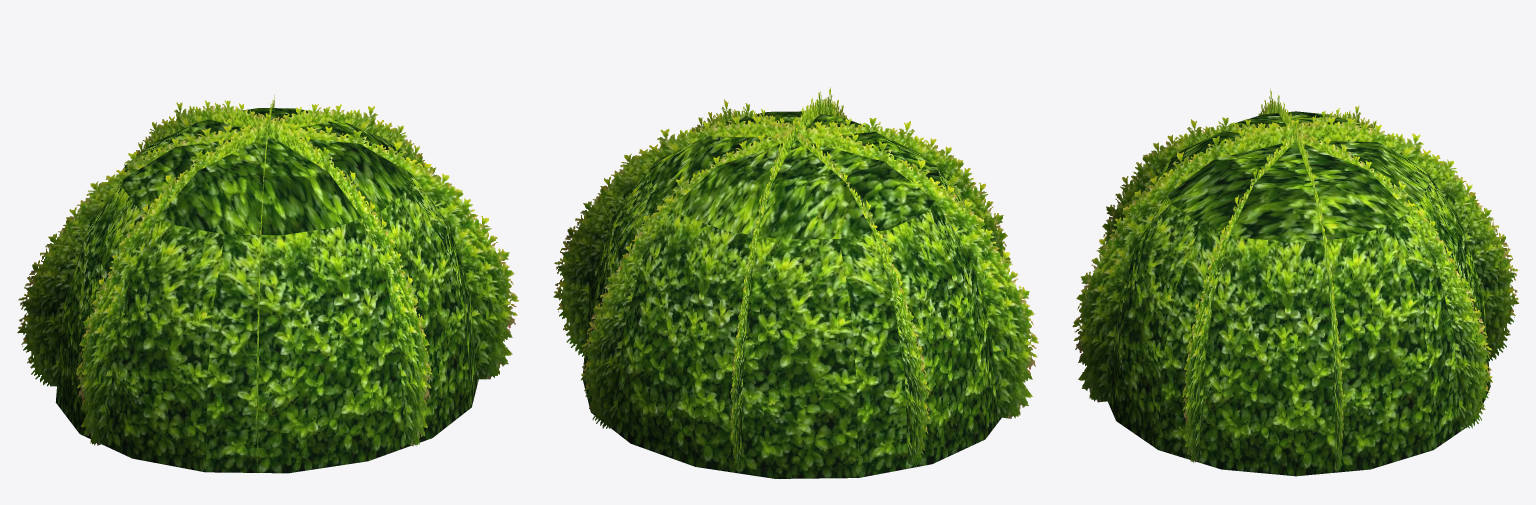
The model's file is bush.glb.
The picture shows the model from 3 angles, left to right: view 1: azimuth 30°, elevation 25°; view 2: azimuth 150°, elevation 25°; view 3: azimuth 270°, elevation 25°; orthographic projection. The views are drawn at different scales.
Visible parts, largest first — view 1: bush; view 2: bush; view 3: bush.
Part boxes in pixels (left/top/right/bottom): bush: left=17, top=95, right=518, bottom=473; bush: left=553, top=87, right=1038, bottom=478; bush: left=1072, top=89, right=1518, bottom=476.
Size of the model in its own units: 1.96 by 1.19 by 1.79.
1 material, 1 textured.
